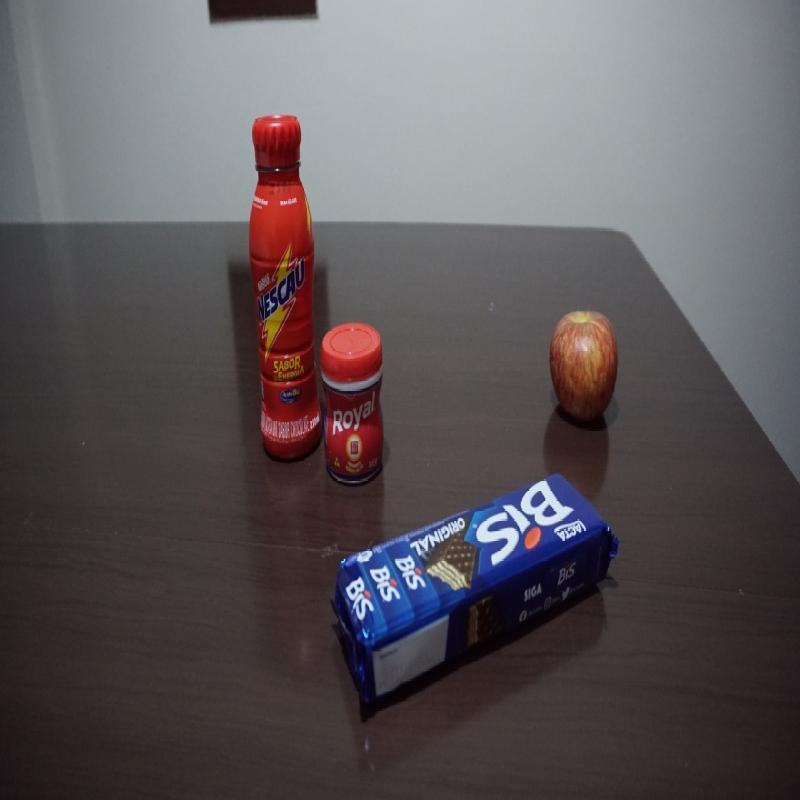Apple: (548, 308, 619, 422)
Chocolate Milk: (248, 111, 324, 462)
Yeast: (320, 324, 386, 486)
